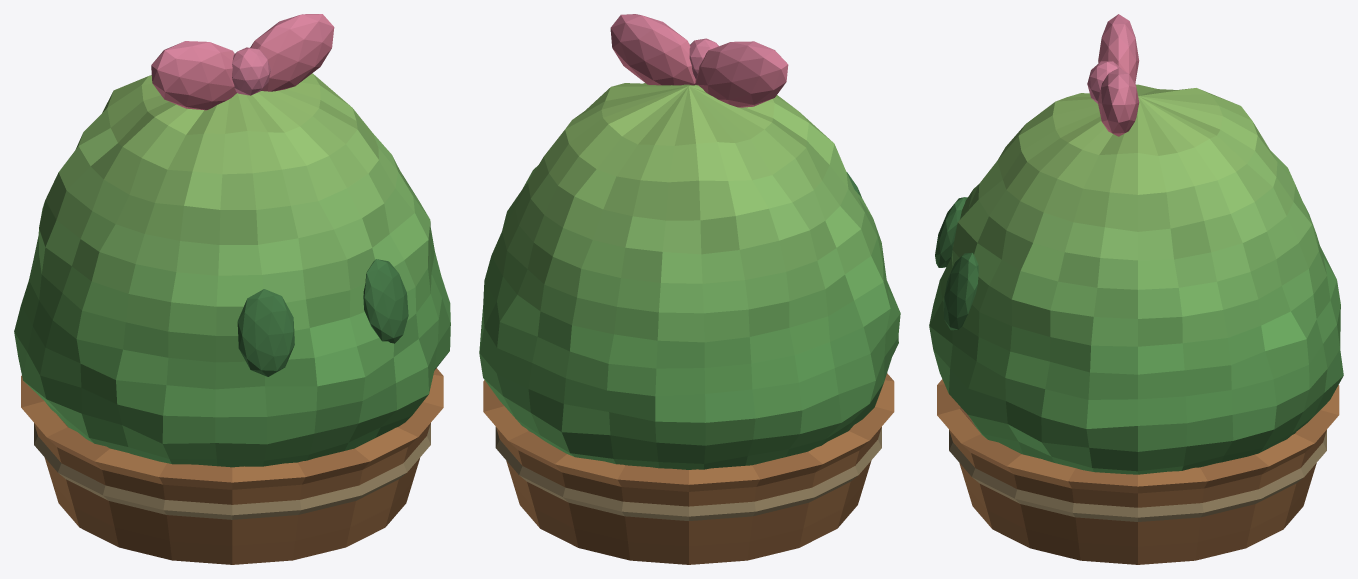
Rendered from decor_slime_topiary.fbx.
The picture shows the model from 3 angles, left to right: view 1: azimuth 30°, elevation 25°; view 2: azimuth 150°, elevation 25°; view 3: azimuth 270°, elevation 25°; orthographic projection. The views are drawn at different scales.
Visible parts, largest first — view 1: decor_slime_topiary; view 2: decor_slime_topiary; view 3: decor_slime_topiary.
Boxes of the visible parts, x1,y1,x2,y2 form: decor_slime_topiary: (14,14,450,564); decor_slime_topiary: (479,14,900,564); decor_slime_topiary: (929,14,1343,564).
Bounding box in the file's own units: 3.26 × 3.81 × 3.21.
